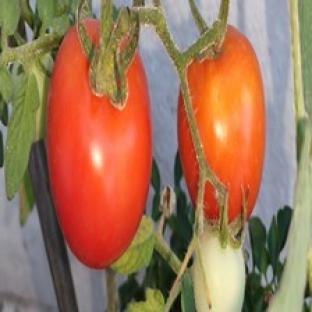Tomato: (48, 27, 151, 268), (187, 26, 266, 222), (191, 232, 245, 311)
